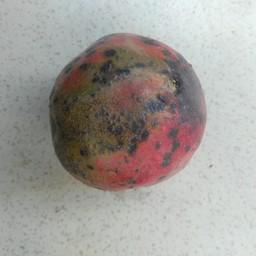Bad_pomegranate: (51, 31, 207, 191)
